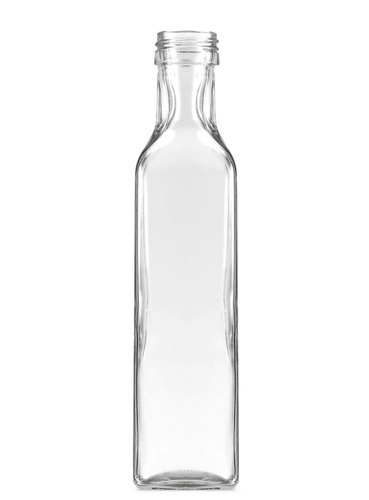container: (120, 27, 247, 491)
